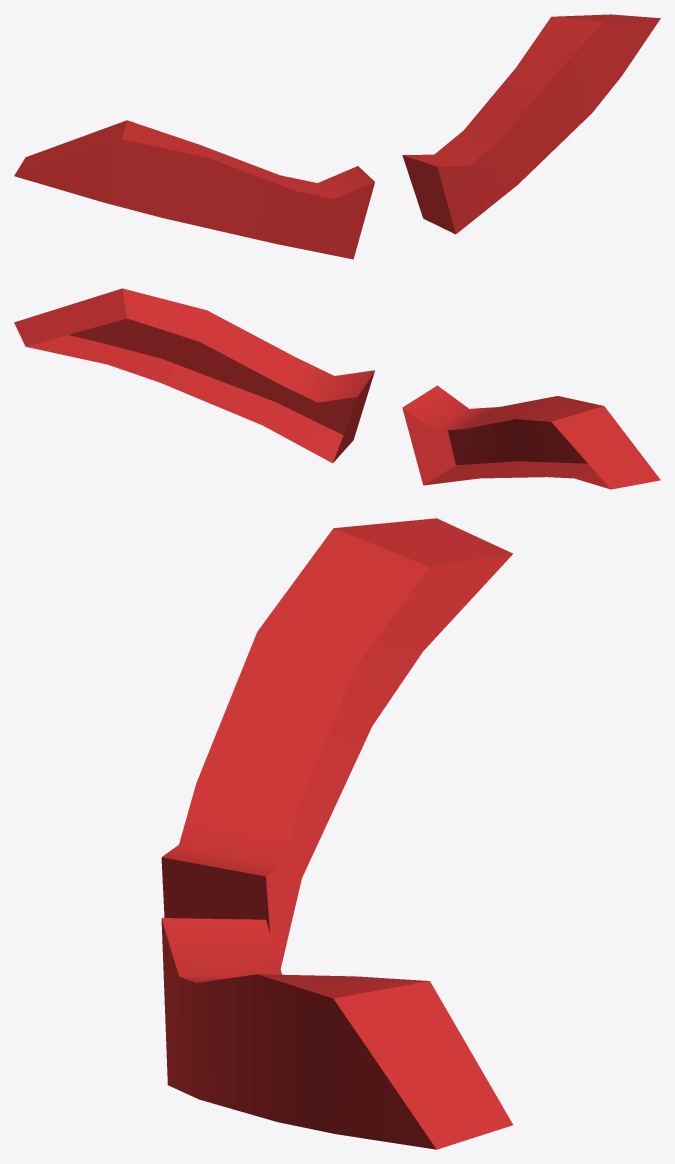
File: Brow_Red_13.fbx
3 renders of one model, top to bottom at view 1: azimuth 30°, elevation 25°; view 2: azimuth 150°, elevation 25°; view 3: azimuth 270°, elevation 25°, orthographic. The views are drawn at different scales.
Parts seen in each view (by area): view 1: Brow_Red_13; view 2: Brow_Red_13; view 3: Brow_Red_13.
Part boxes in pixels (<box>): Brow_Red_13: <box>14,14,660,259</box>; Brow_Red_13: <box>14,288,660,489</box>; Brow_Red_13: <box>161,518,512,1149</box>.
Size of the model in its own units: 40.31 by 8.22 by 9.5.
